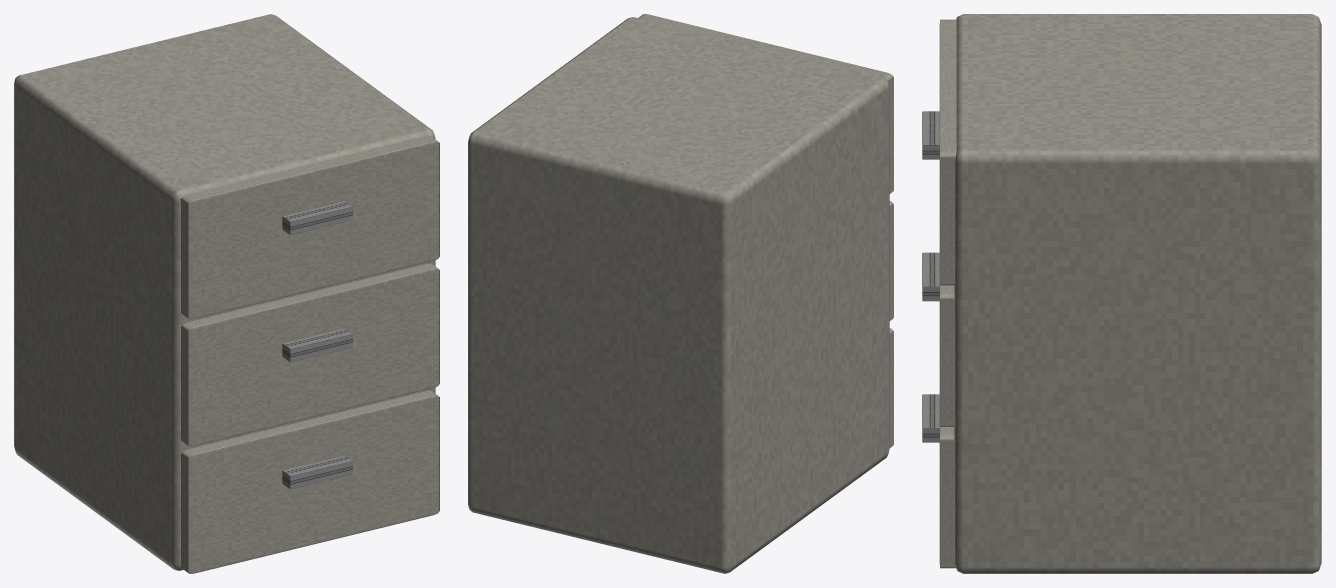
File: pedestal.glb
3 views of the same model, side by side, from view 1: azimuth 30°, elevation 25°; view 2: azimuth 150°, elevation 25°; view 3: azimuth 270°, elevation 25° (orthographic). The views are drawn at different scales.
Visible parts, largest first — view 1: case, front (×3), pull (×3); view 2: case, front (×3); view 3: case, front (×3), pull (×3).
Boxes of the visible parts, x1=… form: case: x1=14, y1=14, x2=435, y2=570; front (×3): x1=180, y1=136, x2=439, y2=573; pull (×3): x1=282, y1=201, x2=352, y2=489; case: x1=468, y1=17, x2=889, y2=573; front (×3): x1=638, y1=14, x2=893, y2=447; case: x1=954, y1=14, x2=1321, y2=573; front (×3): x1=939, y1=19, x2=956, y2=568; pull (×3): x1=922, y1=111, x2=939, y2=442.
Size of the model in its own units: 0.44 by 0.61 by 0.52.
2 materials, 2 textured.
